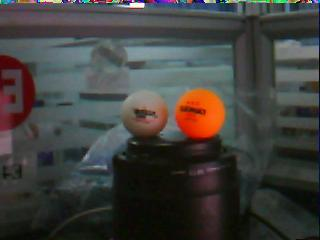oball: (175, 89, 225, 139)
